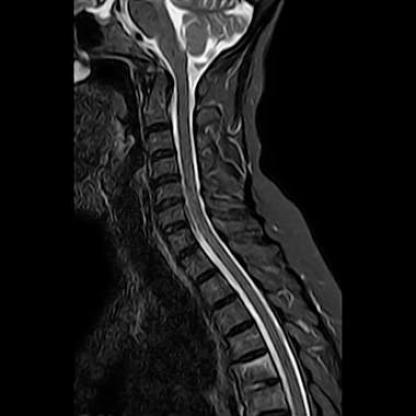Disc Bulgerotation: (152, 195, 186, 213), (146, 173, 181, 188), (159, 220, 189, 235)
